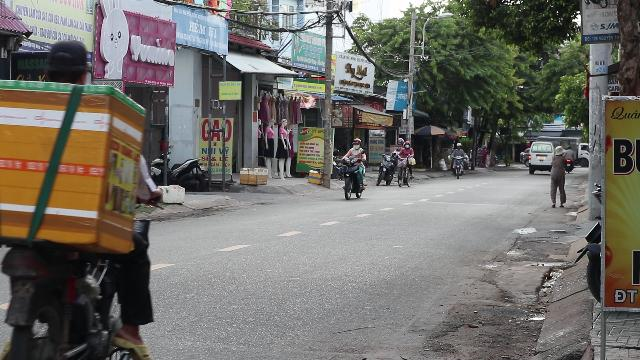motorcyclist: (0, 38, 168, 358)
nohelmet: (42, 39, 90, 86)
